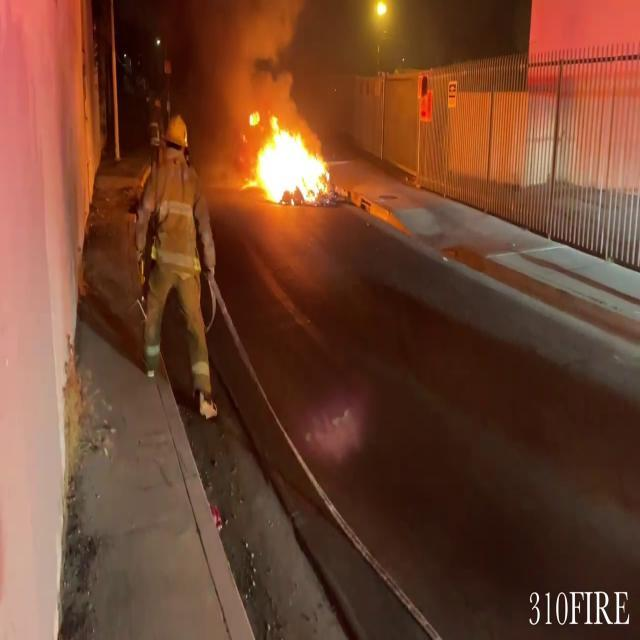Fire: (244, 114, 336, 210)
Smoke: (194, 0, 304, 151)
